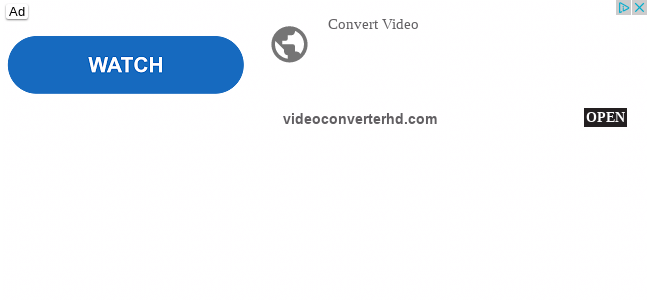fake_button: (3, 30, 251, 110), (568, 102, 641, 131)
